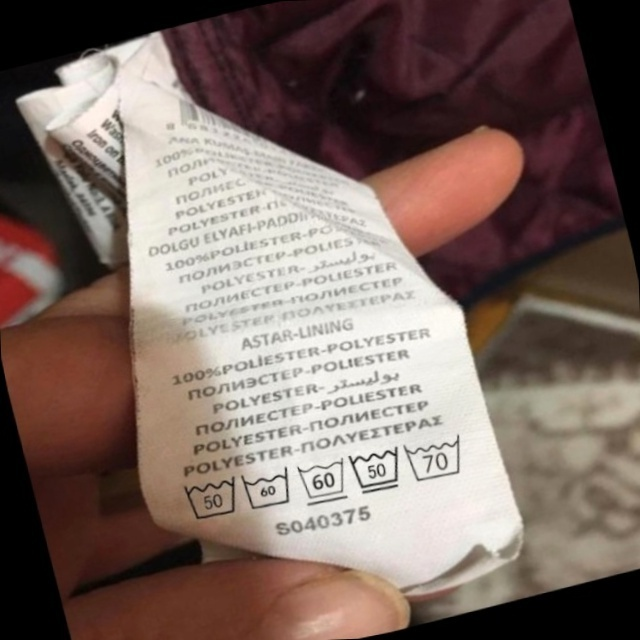50C: (174, 465, 249, 530), (344, 438, 412, 501)
60C: (293, 449, 358, 510), (236, 459, 302, 518)
70C: (401, 427, 476, 488)
